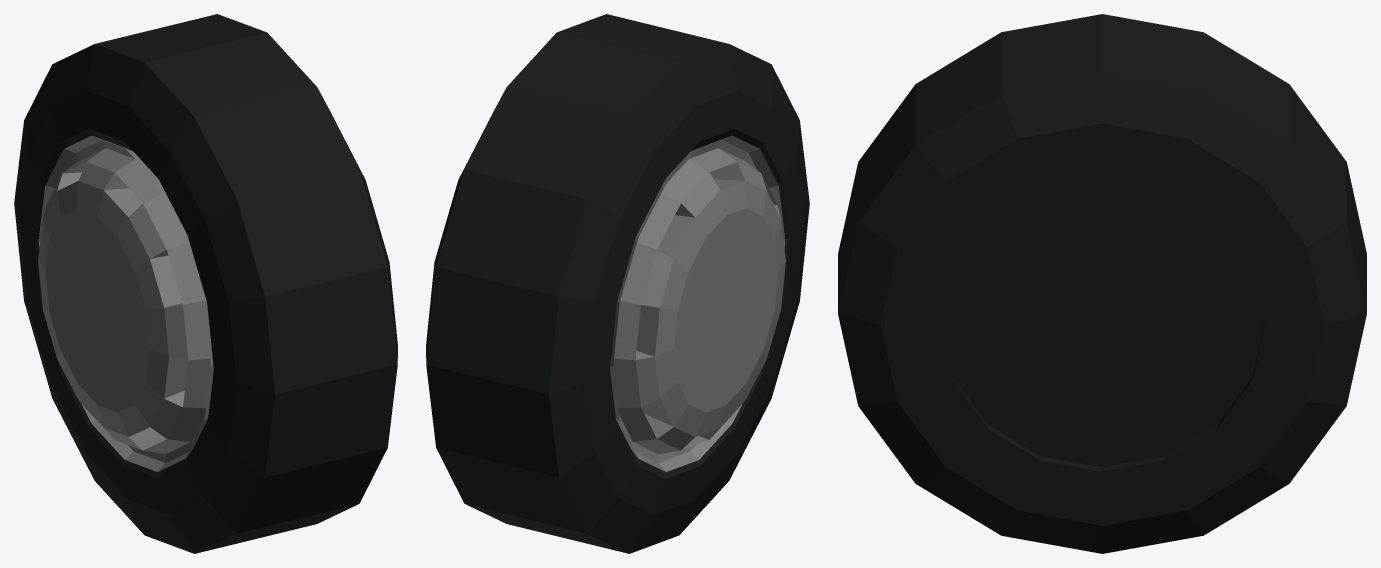
File: WHEEL-RIGHT-2.fbx
3 renders of one model, left to right at view 1: azimuth 30°, elevation 25°; view 2: azimuth 150°, elevation 25°; view 3: azimuth 270°, elevation 25°, orthographic.
Parts seen in each view (by area): view 1: BR; view 2: BR; view 3: BR.
Part boxes in pixels (bbox=[...]): BR: bbox=[14, 14, 397, 553]; BR: bbox=[426, 14, 809, 553]; BR: bbox=[838, 14, 1366, 553].
Size of the model in its own units: 28.9 by 68.53 by 68.53.
